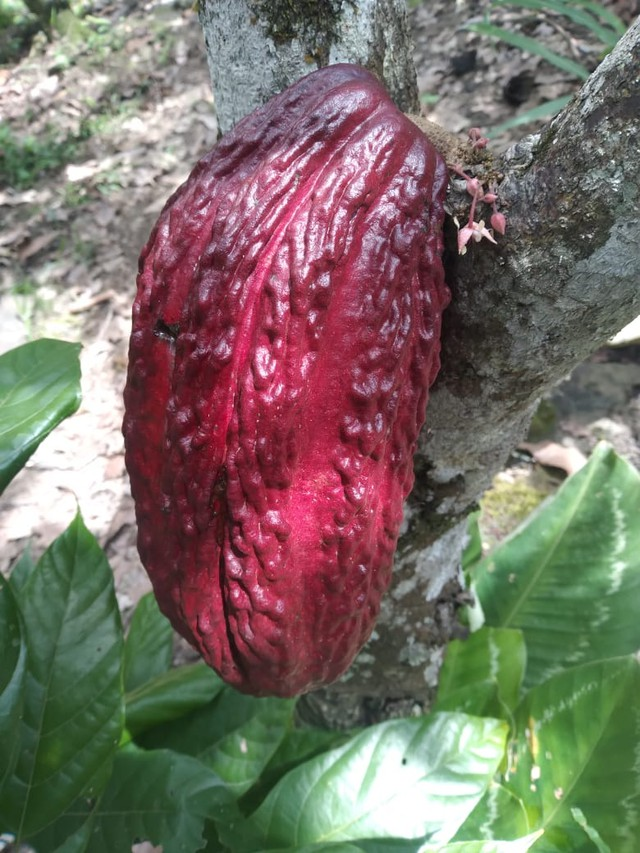carmenta foraseminis: (121, 62, 450, 702)
